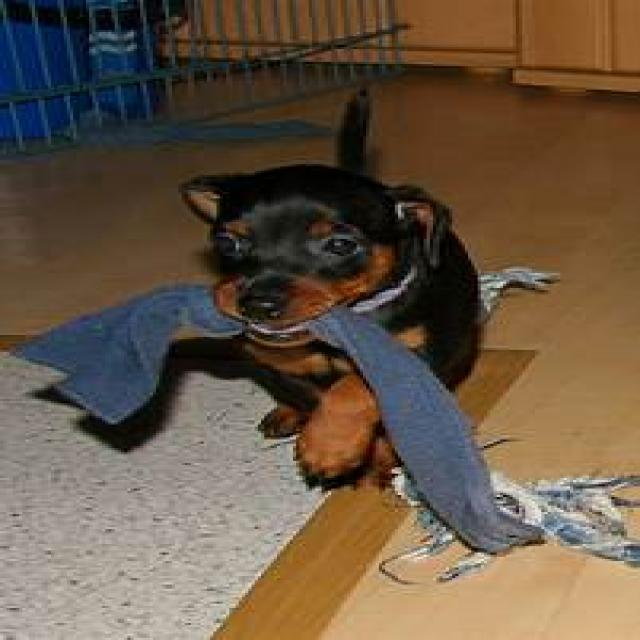dog: (178, 164, 490, 484)
